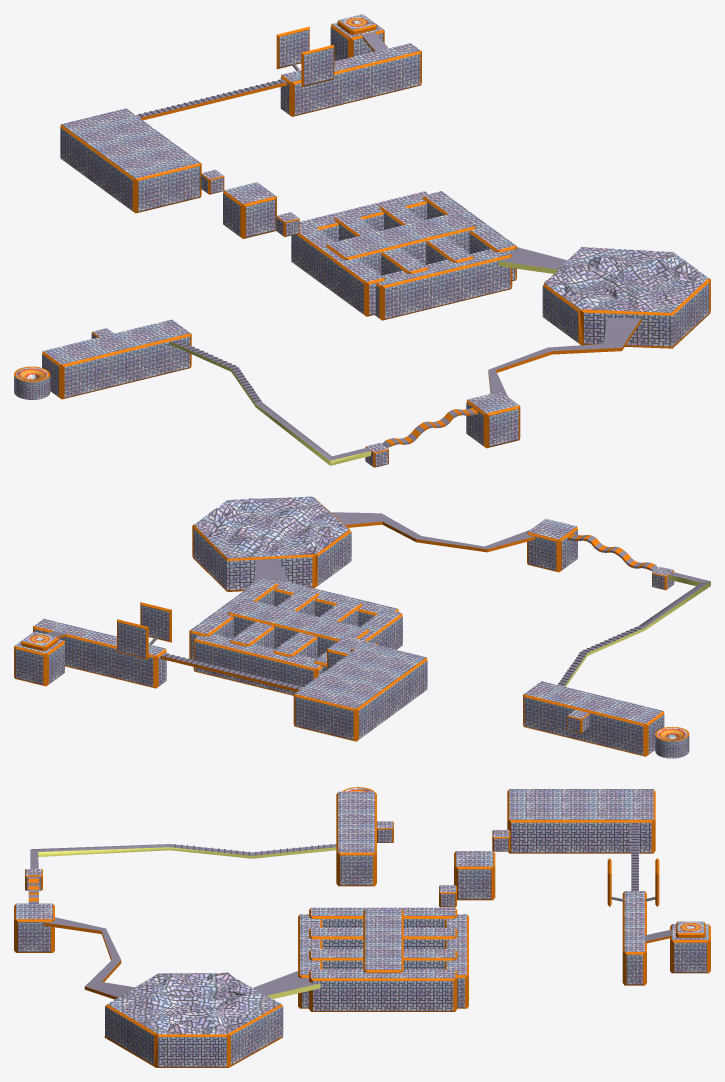
Rendered from Level36.fbx.
3 renders of one model, top to bottom at view 1: azimuth 30°, elevation 25°; view 2: azimuth 150°, elevation 25°; view 3: azimuth 270°, elevation 25°, orthographic. The views are drawn at different scales.
Parts seen in each view (by area): view 1: Level36; view 2: Level36; view 3: Level36.
Part boxes in pixels (<box>): Level36: <box>14,14,710,467</box>; Level36: <box>14,496,710,758</box>; Level36: <box>14,787,710,1067</box>.
Bounding box in the file's own units: 5335 × 1307 × 5632.
10 materials, 5 textured.
